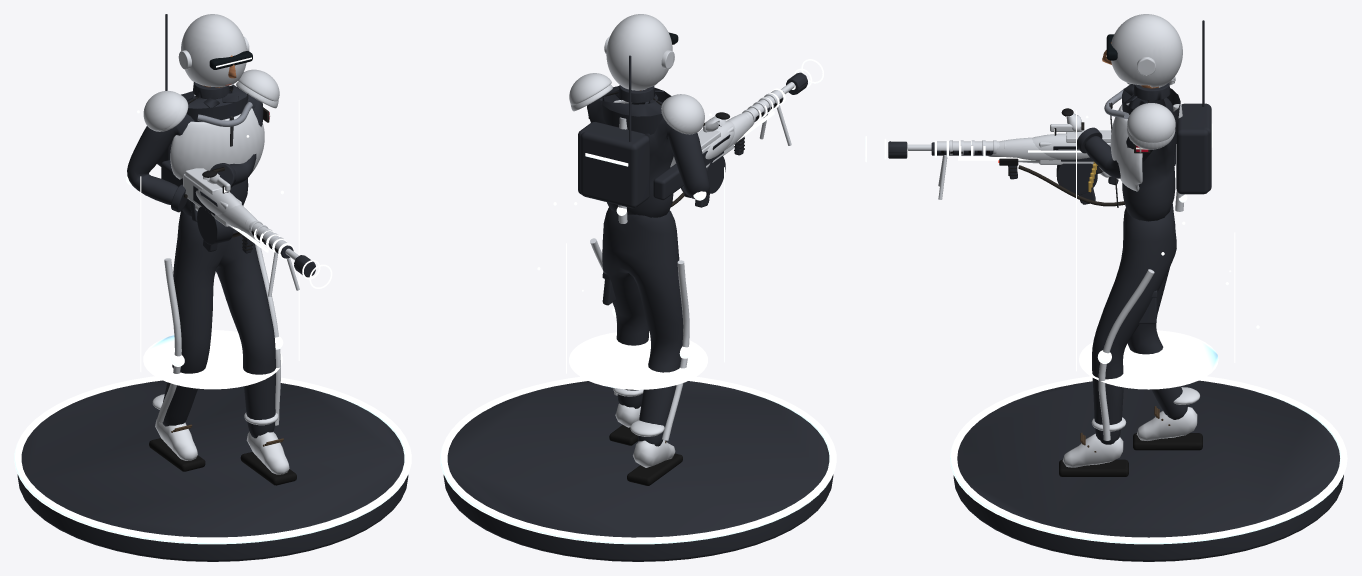
File: garder_krom.glb
3 renders of one model, left to right at view 1: azimuth 30°, elevation 25°; view 2: azimuth 150°, elevation 25°; view 3: azimuth 270°, elevation 25°, orthographic.
Visible parts, largest first — view 1: fod_net, menneske_net, op4_net, op2.001_net, hoved_net, vaaben_net, op4.001_net, op3.001_net, op4.002_net, op2_net, ned3.001_net; view 2: fod_net, menneske_net, op4.001_net, op4_net, hoved_net, vaaben_net, op3.001_net, op4.002_net, ned4.001_net, op2_net; view 3: fod_net, menneske_net, op4_net, hoved_net, vaaben_net, op4.001_net, ned4.001_net, op2.001_net, op3.001_net, op2_net, op1_net, op4.002_net.
Boxes of the visible parts, <box> form: fod_net: <box>14,376,411,561</box>; menneske_net: <box>127,82,296,485</box>; op4_net: <box>137,100,299,389</box>; op2.001_net: <box>170,102,283,444</box>; hoved_net: <box>178,14,252,87</box>; vaaben_net: <box>161,160,299,296</box>; op4.001_net: <box>125,93,283,425</box>; op3.001_net: <box>143,14,279,130</box>; op4.002_net: <box>229,225,332,288</box>; op2_net: <box>195,185,252,253</box>; ned3.001_net: <box>153,81,278,131</box>; fod_net: <box>440,376,836,561</box>; menneske_net: <box>587,85,729,485</box>; op4.001_net: <box>580,117,706,440</box>; op4_net: <box>537,91,724,389</box>; hoved_net: <box>604,14,678,90</box>; vaaben_net: <box>653,93,791,200</box>; op3.001_net: <box>569,55,704,141</box>; op4.002_net: <box>737,59,823,141</box>; ned4.001_net: <box>578,122,644,194</box>; op2_net: <box>705,121,744,159</box>; fod_net: <box>950,376,1347,561</box>; menneske_net: <box>1059,83,1202,476</box>; op4_net: <box>1076,110,1259,389</box>; hoved_net: <box>1102,14,1182,87</box>; vaaben_net: <box>938,124,1175,199</box>; op4.001_net: <box>1097,103,1212,440</box>; ned4.001_net: <box>1176,105,1209,194</box>; op2.001_net: <box>1080,88,1156,442</box>; op3.001_net: <box>1127,20,1204,142</box>; op2_net: <box>998,128,1089,179</box>; op1_net: <box>908,141,1124,206</box>; op4.002_net: <box>865,136,1176,179</box>.
Size of the model in its own units: 1.94 by 2.49 by 2.35.
